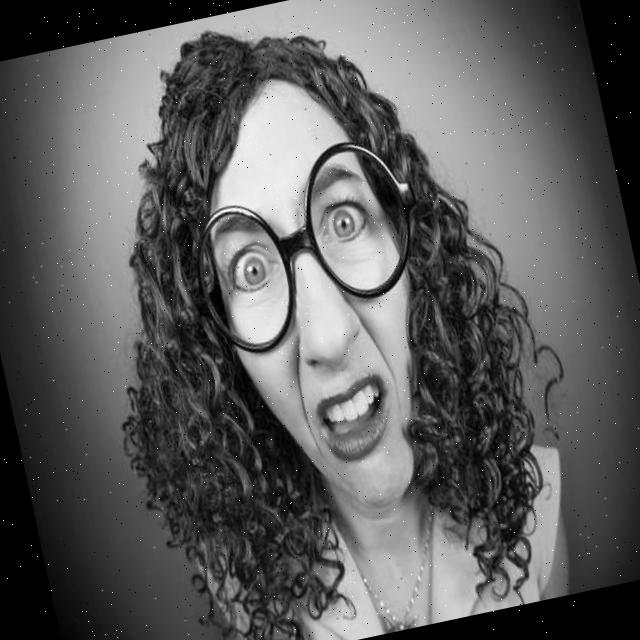Disgust: (176, 60, 458, 532)
